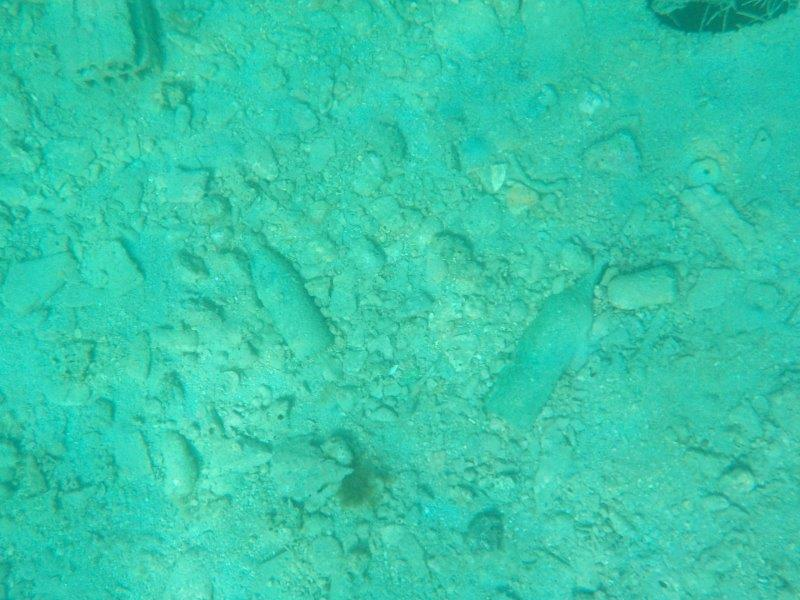bottle: (481, 243, 615, 434), (239, 225, 342, 365)
